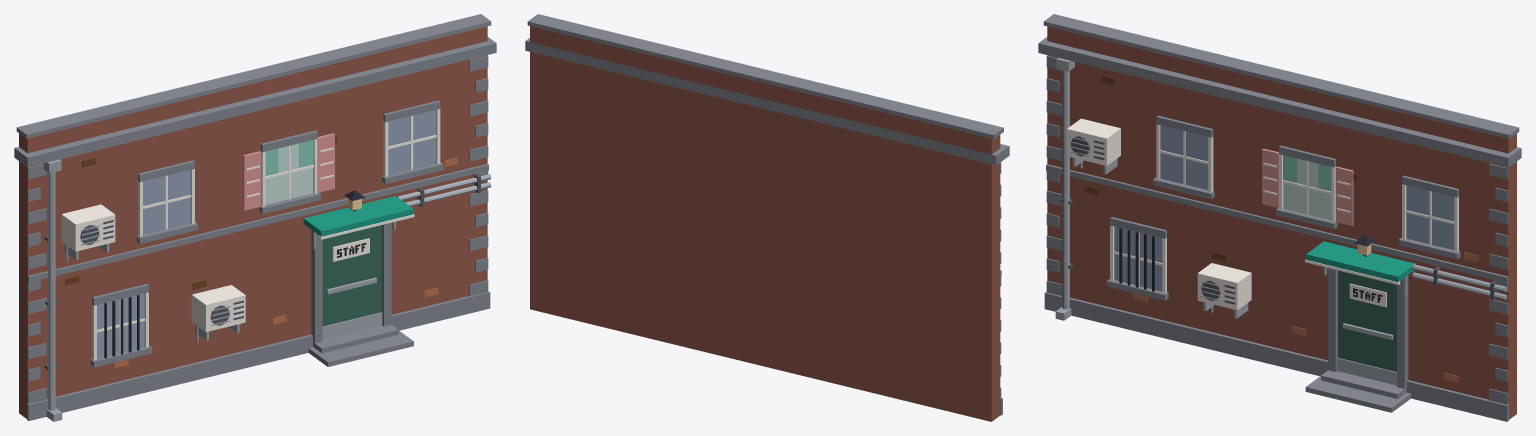
Rendered from CatCafe_Alley_WallDoor.glb.
The picture shows the model from 3 angles, left to right: view 1: azimuth 30°, elevation 25°; view 2: azimuth 150°, elevation 25°; view 3: azimuth 330°, elevation 25°; orthographic projection.
Visible parts, largest first — view 1: CatCafe_Alley_WallDoor, CatCafe_Alley_WallDoor_Pane; view 2: CatCafe_Alley_WallDoor; view 3: CatCafe_Alley_WallDoor, CatCafe_Alley_WallDoor_Pane.
Boxes of the visible parts, bbox=[...] form: CatCafe_Alley_WallDoor: bbox=[14, 14, 496, 421]; CatCafe_Alley_WallDoor_Pane: bbox=[265, 143, 313, 204]; CatCafe_Alley_WallDoor: bbox=[525, 14, 1009, 421]; CatCafe_Alley_WallDoor: bbox=[1038, 14, 1521, 421]; CatCafe_Alley_WallDoor_Pane: bbox=[1283, 158, 1331, 219].
Size of the model in its own units: 30.6 by 17.85 by 3.4.
1 material, 1 textured.
